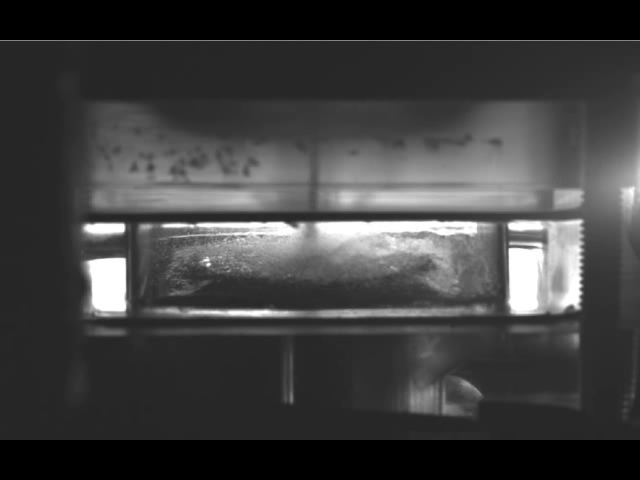Zona de teste: (192, 231, 438, 282)
